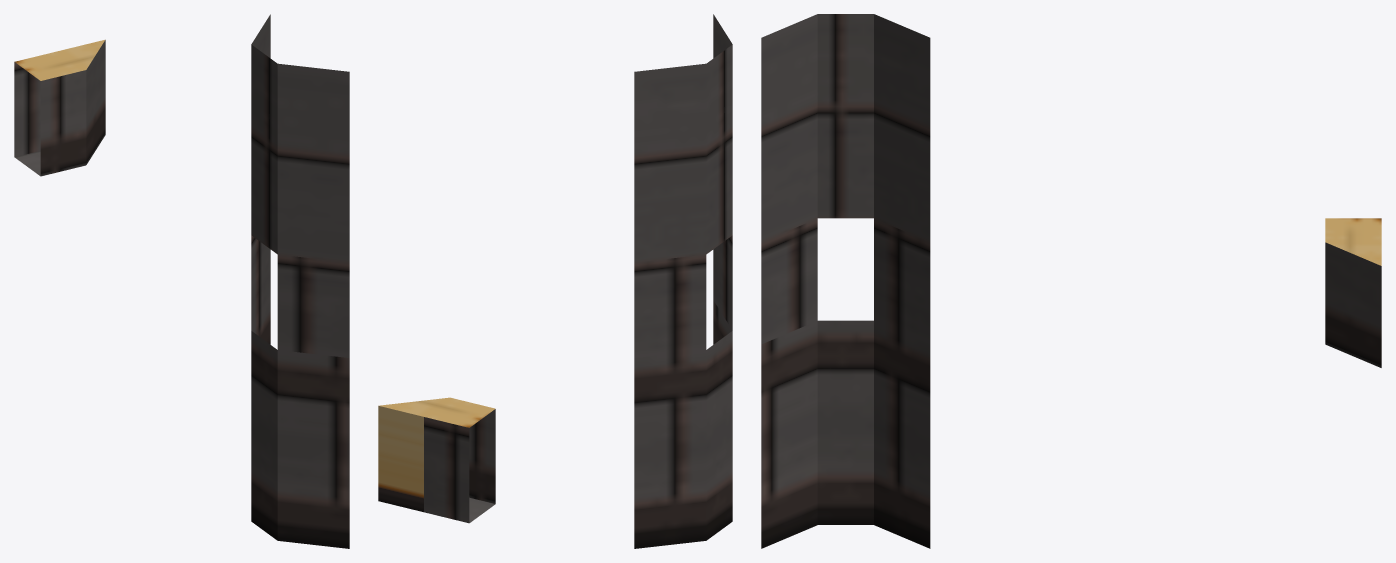
The model's file is desk_attachment_right.obj.
3 renders of one model, left to right at view 1: azimuth 30°, elevation 25°; view 2: azimuth 150°, elevation 25°; view 3: azimuth 270°, elevation 25°, orthographic. The views are drawn at different scales.
Visible parts, largest first — view 1: DESK_TABLE_ATTACHMENT_RIGHT_LONG_TABLE_LEGS_Cube.000; view 2: DESK_TABLE_ATTACHMENT_RIGHT_LONG_TABLE_LEGS_Cube.000; view 3: DESK_TABLE_ATTACHMENT_RIGHT_LONG_TABLE_LEGS_Cube.000.
Part boxes in pixels (<box>): DESK_TABLE_ATTACHMENT_RIGHT_LONG_TABLE_LEGS_Cube.000: <box>14,14,349,548</box>; DESK_TABLE_ATTACHMENT_RIGHT_LONG_TABLE_LEGS_Cube.000: <box>378,14,732,548</box>; DESK_TABLE_ATTACHMENT_RIGHT_LONG_TABLE_LEGS_Cube.000: <box>761,14,1381,548</box>.
Bounding box in the file's own units: 0.125 × 0.625 × 0.6875.
